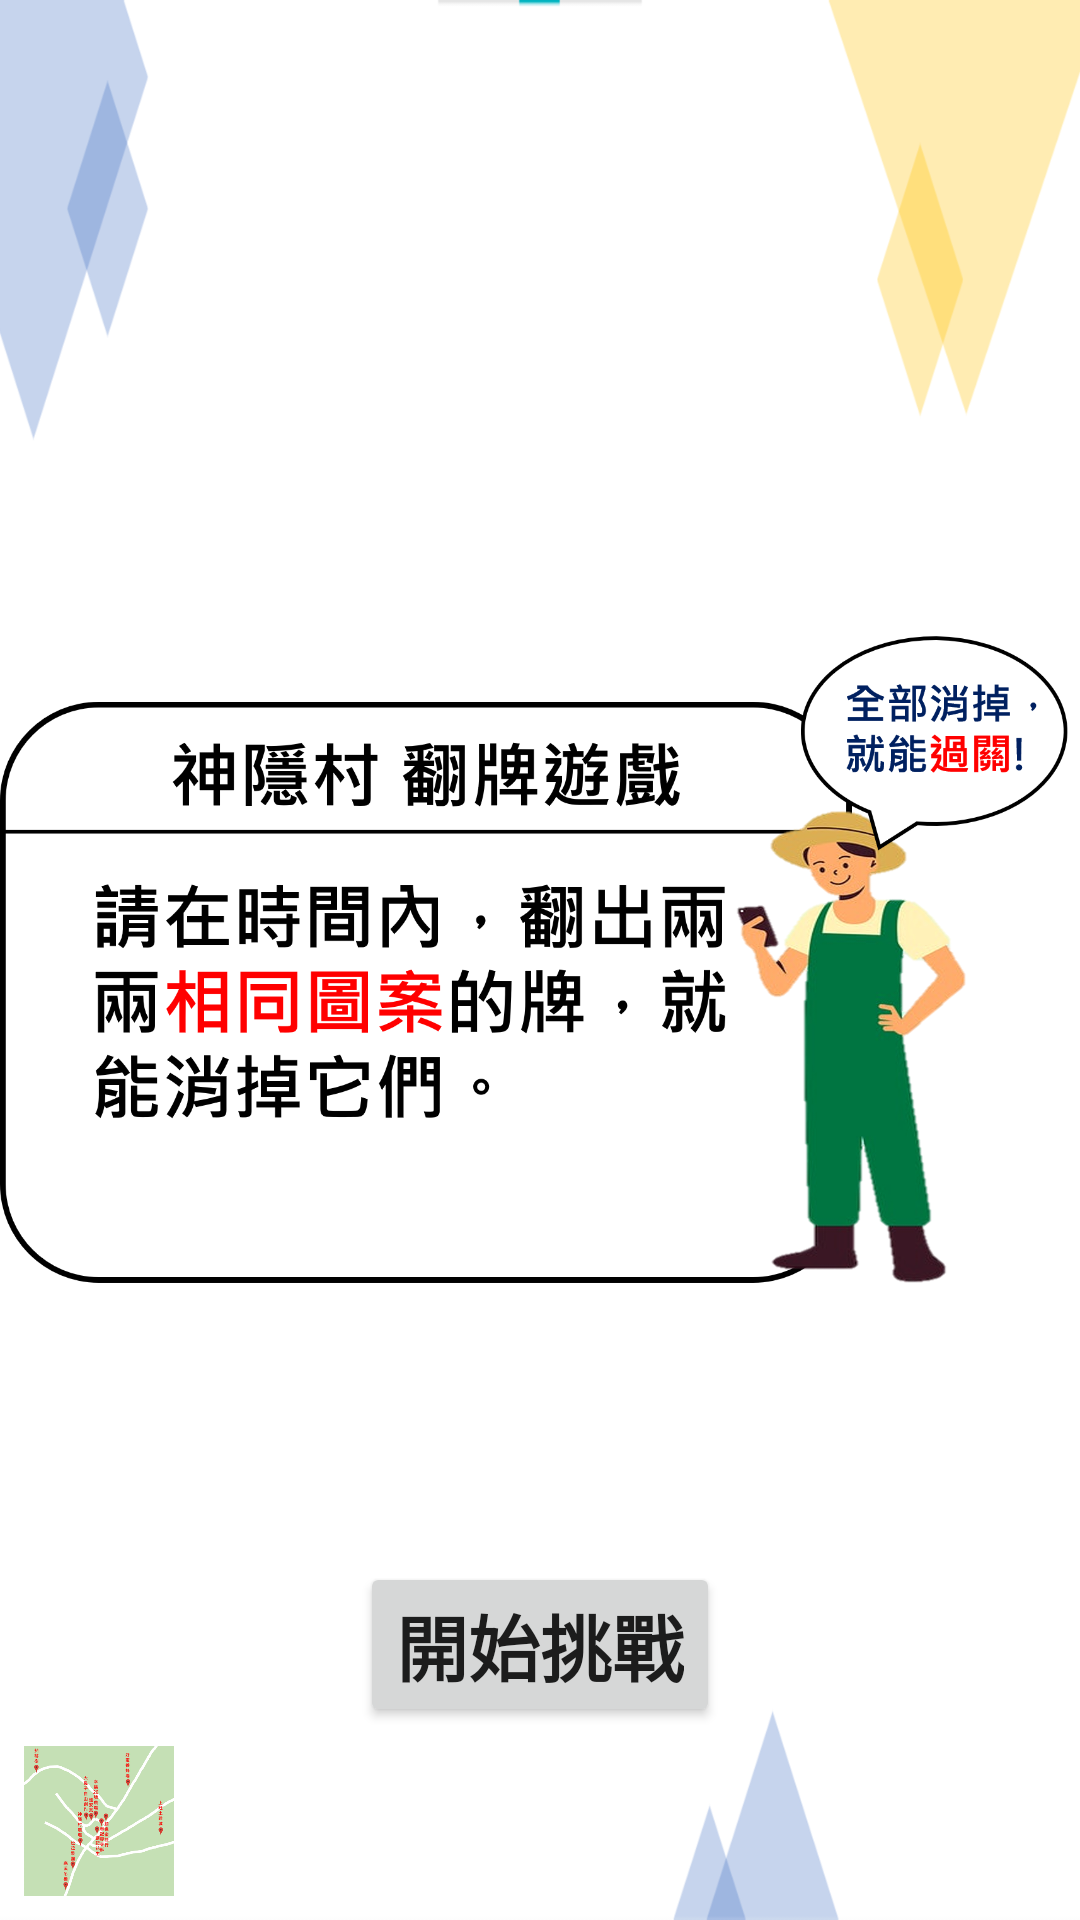

Screen size 1080w x 1920h. Icon name, then its center in pixels as [x,y]:
map: [99,1821]
